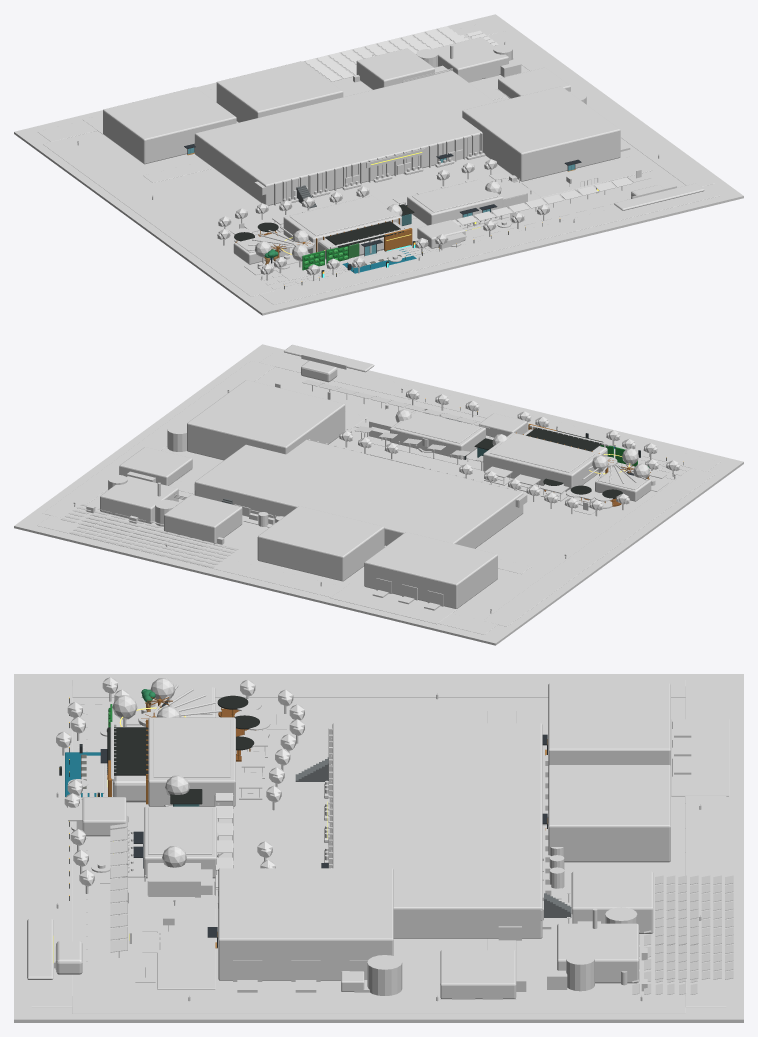
Rendered from POVU_REV004_FINAL_MASTER.glb.
3 views of the same model, one above another, from view 1: azimuth 30°, elevation 25°; view 2: azimuth 150°, elevation 25°; view 3: azimuth 270°, elevation 25° (orthographic). The views are drawn at different scales.
Parts seen in each view (by area): view 1: SITE_7HA, PRODUCTION_ROOF, FG_Warehouse, RM_Warehouse, ROAD, ROAD002, Packaging_Warehouse, ROAD003, PRODUCTION_WALL_SOUTH, FG_Truck_Yard, GREEN_ROOF_Admin_RD_QC, Chemical_Compound (+13 smaller); view 2: SITE_7HA, PRODUCTION_ROOF, FG_Warehouse, Packaging_Warehouse, RM_Warehouse, ROAD002, ROAD, ROAD001, ROAD003, Chemical_Compound, Utility_House, GREEN_ROOF_Admin_RD_QC (+16 smaller); view 3: SITE_7HA, PRODUCTION_ROOF, FG_Warehouse, Packaging_Warehouse, ROAD003, ROAD, RM_Warehouse, ROAD002, ROAD001, FG_Truck_Yard, GREEN_ROOF_Admin_RD_QC, PRODUCTION_WALL_EAST (+23 smaller).
Part boxes in pixels (x1,y1,x2,y2): SITE_7HA: (14,14,743,315); PRODUCTION_ROOF: (195,70,494,185); FG_Warehouse: (462,86,620,181); RM_Warehouse: (103,87,236,164); ROAD: (260,185,720,304); ROAD002: (43,138,274,296); Packaging_Warehouse: (216,61,343,122); ROAD003: (484,31,715,186); PRODUCTION_WALL_SOUTH: (266,133,482,205); FG_Truck_Yard: (521,156,652,197); GREEN_ROOF_Admin_RD_QC: (289,196,395,235); Chemical_Compound: (356,48,434,89); SITE_7HA: (14,344,743,645); PRODUCTION_ROOF: (195,439,522,543); FG_Warehouse: (187,380,345,460); Packaging_Warehouse: (257,506,384,581); RM_Warehouse: (364,532,497,608); ROAD002: (483,468,714,626); ROAD: (260,352,720,471); ROAD001: (37,515,497,634); ROAD003: (42,361,274,519); Chemical_Compound: (164,494,242,544); Utility_House: (100,476,178,523); GREEN_ROOF_Admin_RD_QC: (489,433,595,472); SITE_7HA: (14,674,743,1022); PRODUCTION_ROOF: (332,723,541,907); FG_Warehouse: (218,868,393,980); Packaging_Warehouse: (548,765,670,862); ROAD003: (72,996,685,1013); ROAD: (31,686,72,1007); RM_Warehouse: (548,683,670,765); ROAD002: (72,680,685,697); ROAD001: (685,686,726,1007); FG_Truck_Yard: (157,908,215,989); GREEN_ROOF_Admin_RD_QC: (153,719,230,777); PRODUCTION_WALL_EAST: (393,908,541,938).
Bounding box in the file's own units: 280 × 17.2 × 250.
